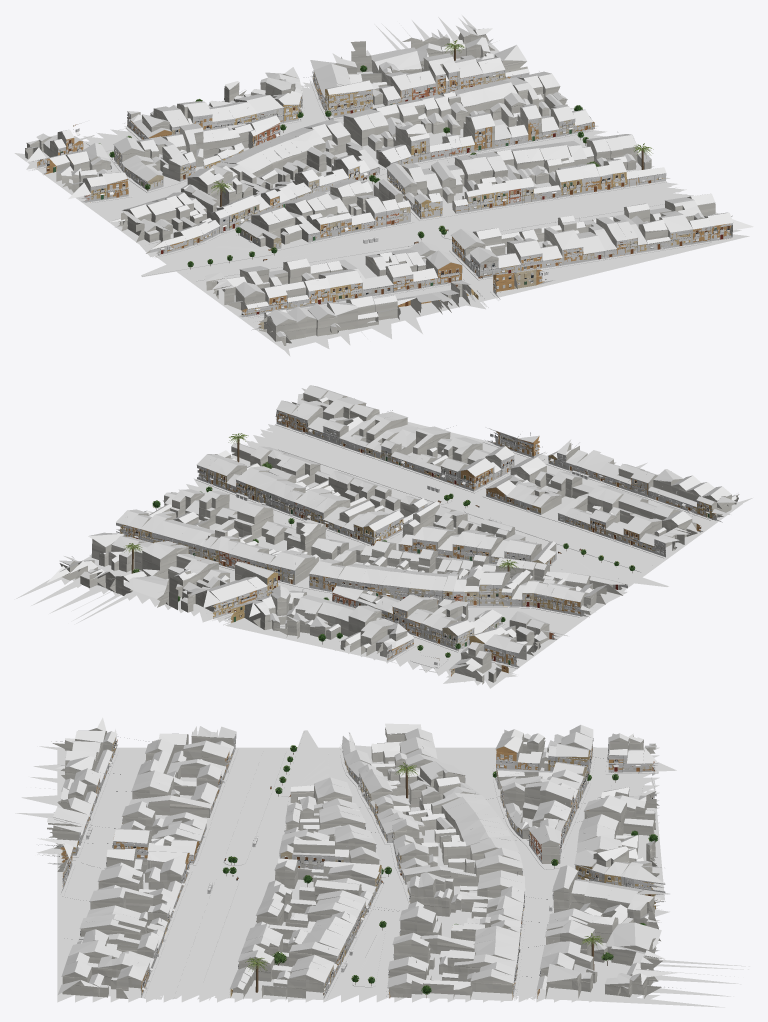
File: zona_0_-3.glb
The picture shows the model from 3 angles, top to bottom: view 1: azimuth 30°, elevation 25°; view 2: azimuth 150°, elevation 25°; view 3: azimuth 270°, elevation 25°; orthographic projection. The views are drawn at different scales.
Parts seen in each view (by area): view 1: z_tejados_0_-3, z_casas_0_-3, z_calle_0_-3, z_fachadas_0_-3, z_suelo_0_-3, z_casas_planas_0_-3, z_detalles_pueblo_0_-3, z_arboles_0_-3; view 2: z_tejados_0_-3, z_casas_0_-3, z_calle_0_-3, z_fachadas_0_-3, z_suelo_0_-3, z_casas_planas_0_-3, z_detalles_pueblo_0_-3, z_arboles_0_-3, z_objetos_0_-3; view 3: z_tejados_0_-3, z_calle_0_-3, z_casas_0_-3, z_suelo_0_-3, z_fachadas_0_-3, z_casas_planas_0_-3, z_arboles_0_-3, z_objetos_0_-3, z_detalles_pueblo_0_-3.
Part boxes in pixels (box(x1,y1,x2,y2)): z_tejados_0_-3: box(25, 18, 753, 339); z_casas_0_-3: box(25, 29, 732, 345); z_calle_0_-3: box(14, 15, 749, 356); z_fachadas_0_-3: box(38, 70, 732, 330); z_suelo_0_-3: box(40, 83, 708, 325); z_casas_planas_0_-3: box(108, 41, 718, 304); z_detalles_pueblo_0_-3: box(37, 82, 731, 316); z_arboles_0_-3: box(99, 40, 653, 269); z_tejados_0_-3: box(47, 385, 737, 676); z_casas_0_-3: box(59, 391, 739, 684); z_calle_0_-3: box(14, 418, 752, 688); z_fachadas_0_-3: box(116, 403, 722, 676); z_suelo_0_-3: box(217, 425, 714, 671); z_casas_planas_0_-3: box(157, 404, 690, 659); z_detalles_pueblo_0_-3: box(131, 418, 710, 667); z_arboles_0_-3: box(124, 433, 635, 657); z_objetos_0_-3: box(121, 407, 704, 657); z_tejados_0_-3: box(37, 717, 680, 994); z_calle_0_-3: box(15, 730, 749, 1007); z_casas_0_-3: box(47, 727, 664, 999); z_suelo_0_-3: box(61, 741, 644, 1000); z_fachadas_0_-3: box(42, 732, 665, 999); z_casas_planas_0_-3: box(100, 726, 661, 997); z_arboles_0_-3: box(222, 745, 657, 997); z_objetos_0_-3: box(64, 732, 640, 994); z_detalles_pueblo_0_-3: box(63, 751, 618, 998).
Size of the model in its own units: 222 by 13.07 by 250.
